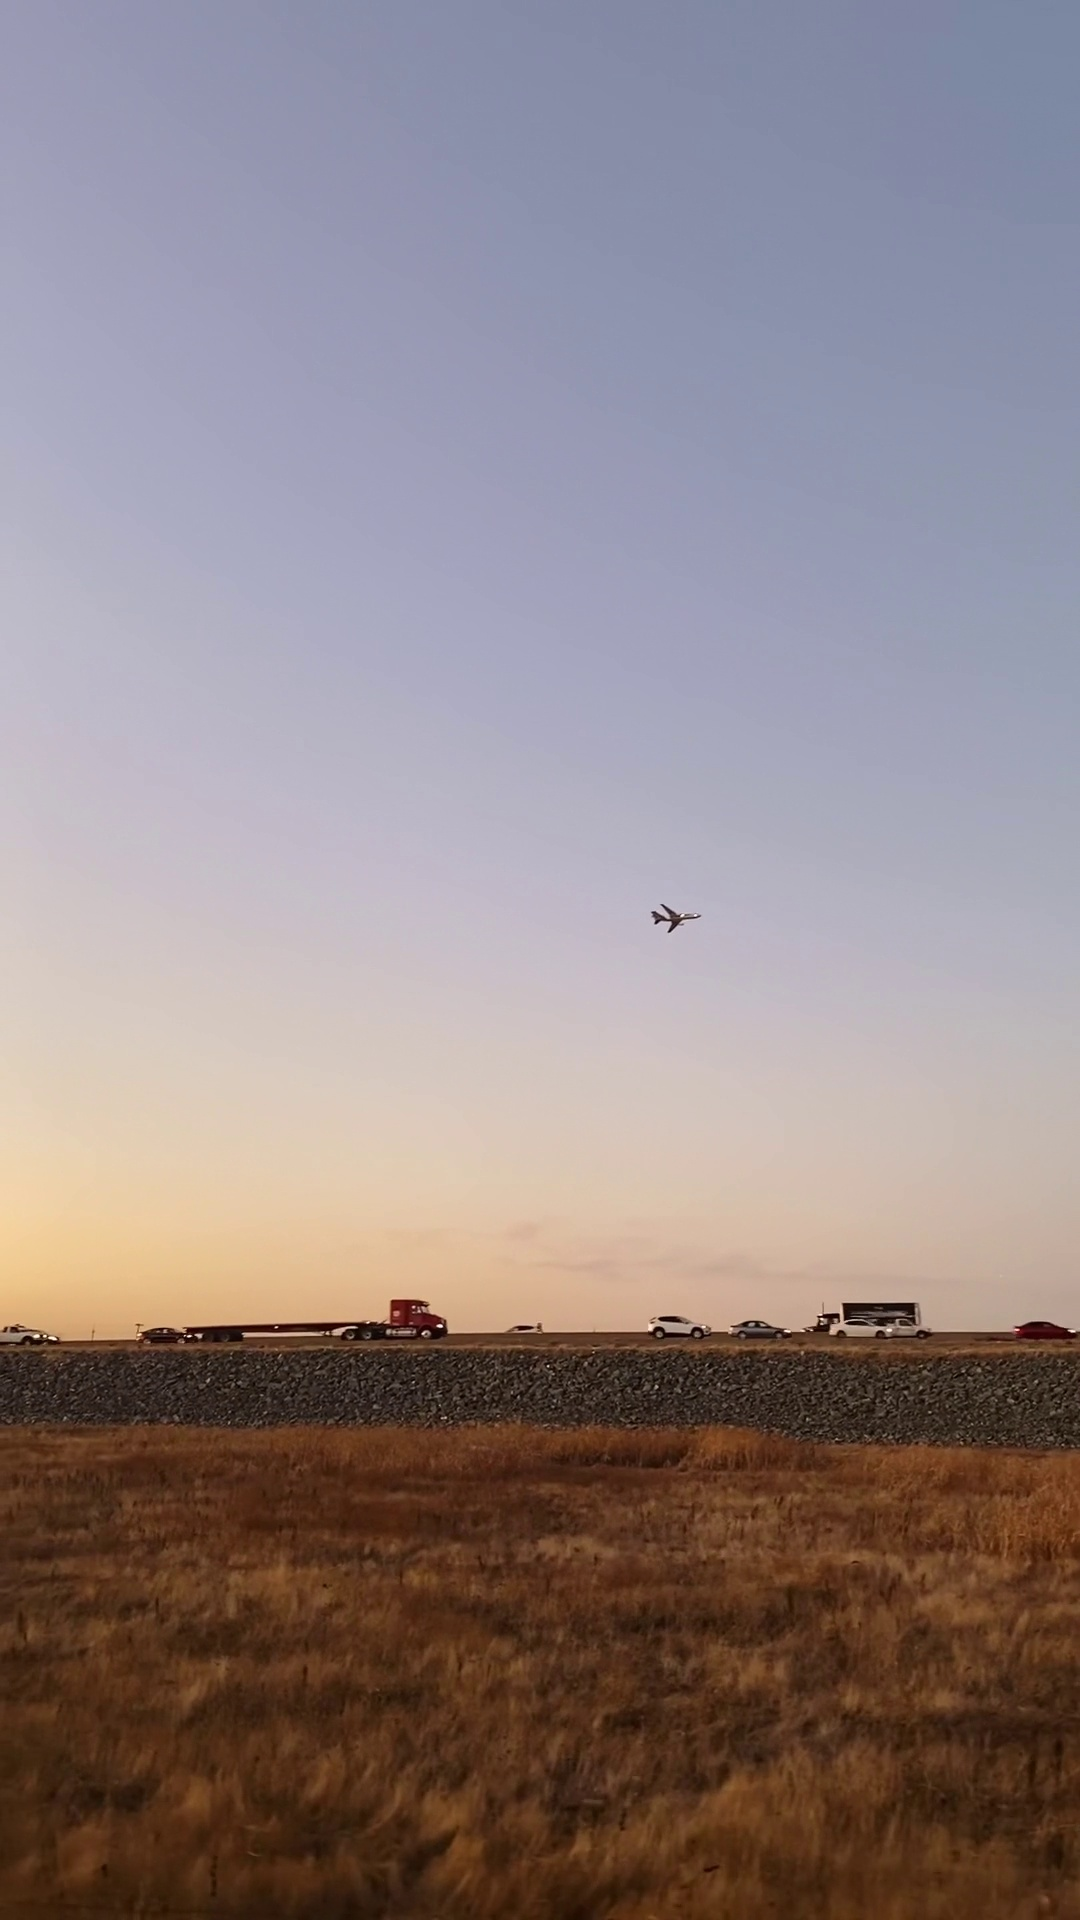plane: (651, 902, 700, 934)
